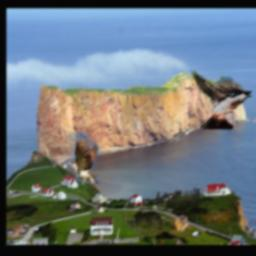Cuckoo: (66, 133, 117, 186)
Swallow: (190, 70, 253, 130)
